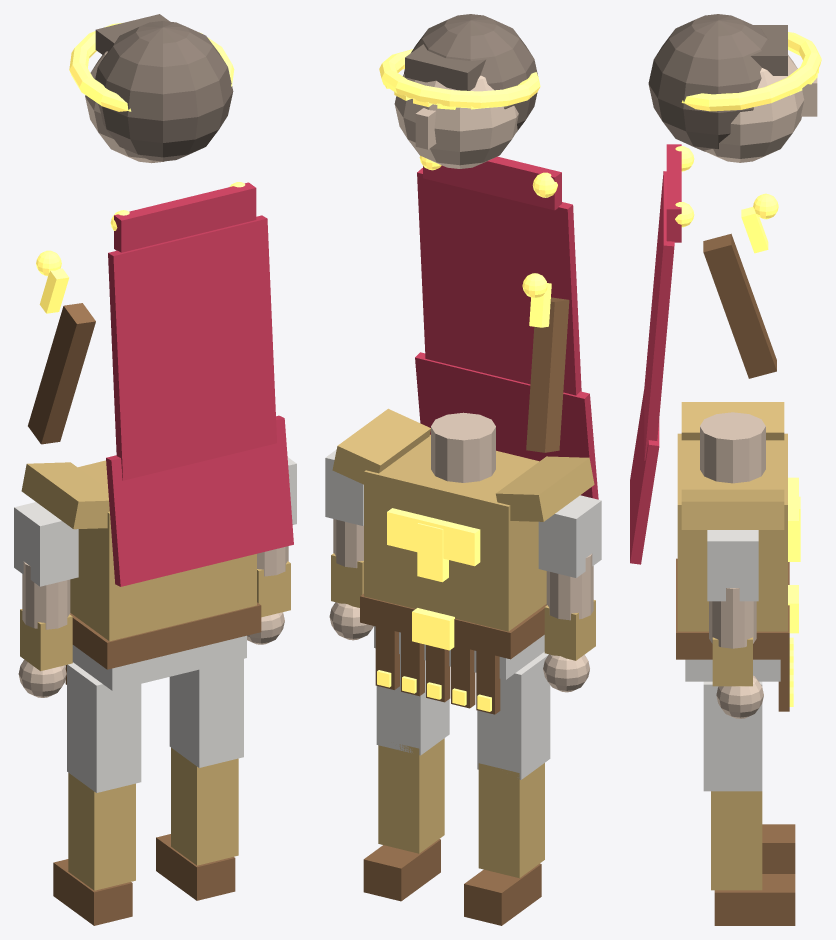
Rendered from caesar.glb.
3 renders of one model, left to right at view 1: azimuth 30°, elevation 25°; view 2: azimuth 150°, elevation 25°; view 3: azimuth 270°, elevation 25°, orthographic. The views are drawn at different scales.
Parts seen in each view (by area): view 1: Cape, Torso, Head, LeftLeg, RightLeg, LeftArm, Gladius, RightArm; view 2: Torso, Cape, Head, LeftLeg, RightLeg, LeftArm, Gladius, RightArm; view 3: Torso, Head, RightLeg, RightArm, Cape, Gladius, LeftLeg.
Part boxes in pixels (x1,y1,x2,y2): Cape: (106,182,293,586); Torso: (21,460,289,690); Head: (69,14,234,163); LeftLeg: (53,662,141,925); RightLeg: (156,659,243,900); LeftArm: (14,502,78,697); Gladius: (28,250,95,444); RightArm: (247,457,296,644); Torso: (332,408,594,714); Cape: (415,155,598,499); Head: (379,14,540,168); LeftLeg: (464,652,550,925); RightLeg: (363,654,449,901); LeftArm: (538,495,601,692); Gladius: (522,273,569,452); RightArm: (325,449,373,640); Torso: (676,402,800,711); Head: (648,14,821,162); RightLeg: (703,681,795,925); RightArm: (707,530,763,718); Cape: (630,144,694,564); Gladius: (703,193,778,378); LeftLeg: (762,824,795,873).
Size of the model in its own units: 0.81 by 2.62 by 0.5224.
